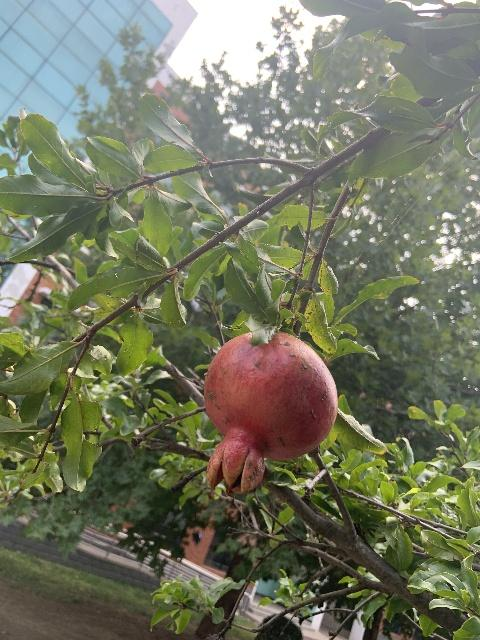ripe: (203, 332, 337, 495)
